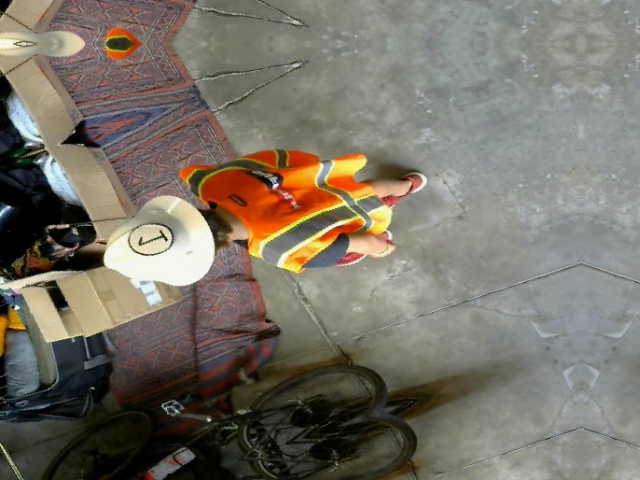one: (121, 218, 178, 260)
